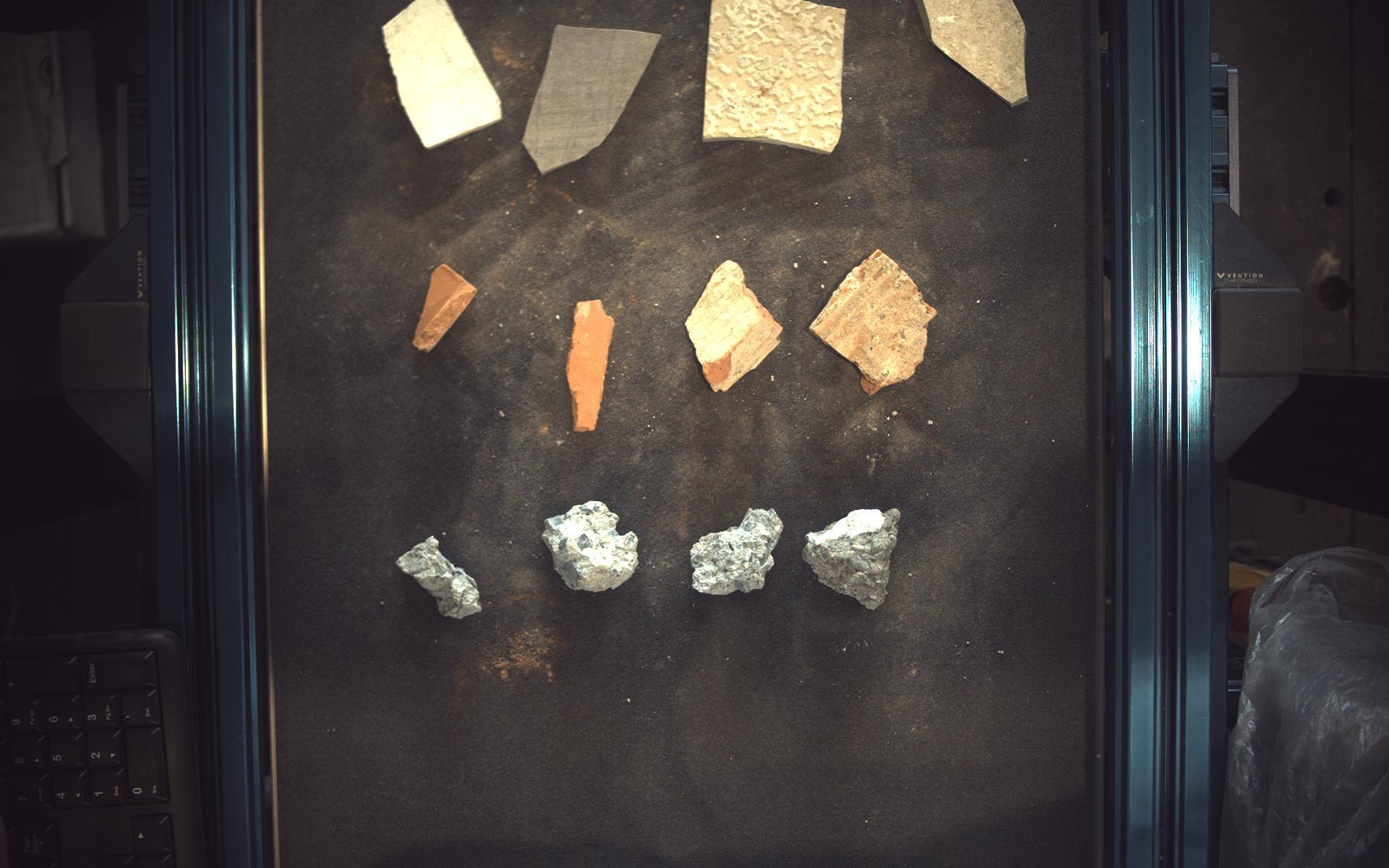brick: (811, 249, 939, 395), (687, 260, 784, 391), (567, 299, 615, 432), (413, 263, 477, 352)
concrete: (804, 509, 902, 610), (543, 501, 639, 592), (692, 509, 784, 596), (396, 537, 482, 619)
tile: (705, 1, 847, 153), (523, 23, 661, 173), (383, 1, 502, 148), (919, 1, 1030, 105)
